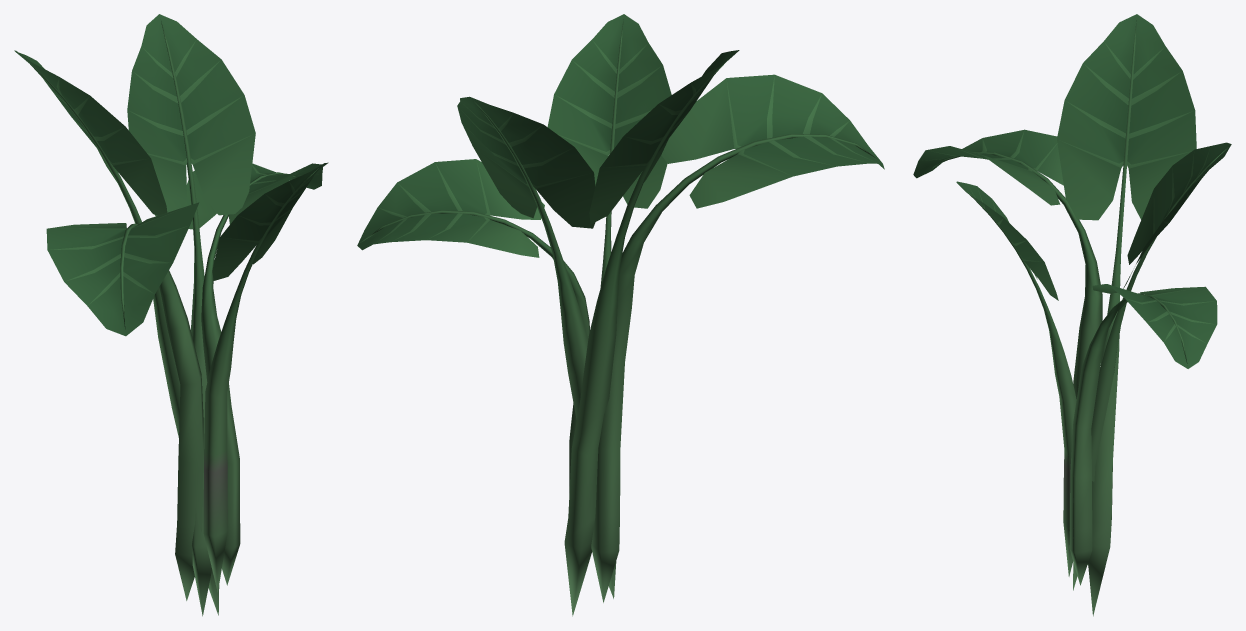
The model's file is plants-leafy-plants-broadleaf-plant_v8.glb.
3 views of the same model, side by side, from view 1: azimuth 30°, elevation 25°; view 2: azimuth 150°, elevation 25°; view 3: azimuth 270°, elevation 25° (orthographic). The views are drawn at different scales.
Visible parts, largest first — view 1: Broadleaf Plant_v8; view 2: Broadleaf Plant_v8; view 3: Broadleaf Plant_v8.
Boxes of the visible parts, x1=… form: Broadleaf Plant_v8: x1=14, y1=14, x2=328, y2=616; Broadleaf Plant_v8: x1=357, y1=14, x2=884, y2=616; Broadleaf Plant_v8: x1=913, y1=14, x2=1231, y2=616.
Size of the model in its own units: 0.3888 by 0.6 by 0.3294.
